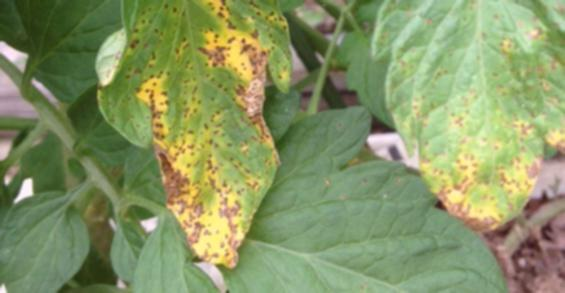Tomato Septoria leaf spot: (92, 0, 292, 275), (359, 0, 565, 246)
